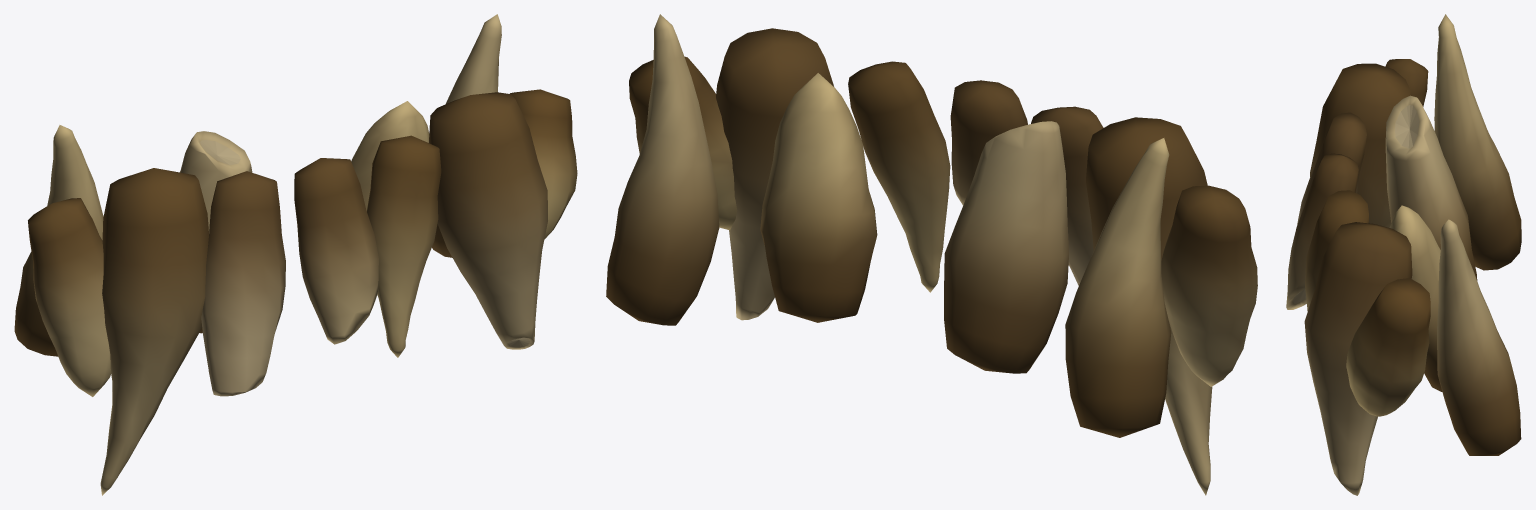
Rendered from goblin-teeth.glb.
The picture shows the model from 3 angles, left to right: view 1: azimuth 30°, elevation 25°; view 2: azimuth 150°, elevation 25°; view 3: azimuth 270°, elevation 25°; orthographic projection. The views are drawn at different scales.
Parts seen in each view (by area): view 1: tooth_u1, tooth_u5, tooth_u2, tooth_u3, tooth_u0, tooth_u4, tooth_l0, tooth_u6, tooth_l1, tooth_l3, tooth_l2; view 2: tooth_l1, tooth_l2, tooth_l0, tooth_l3, tooth_u5, tooth_u0, tooth_u4, tooth_u1, tooth_u3, tooth_u2, tooth_u6; view 3: tooth_u5, tooth_l3, tooth_l0, tooth_u6, tooth_l1, tooth_u1, tooth_u3, tooth_l2, tooth_u4, tooth_u2, tooth_u0.
Part boxes in pixels (bbox=[...]): tooth_u1: bbox=[100, 168, 208, 495]; tooth_u5: bbox=[429, 92, 547, 349]; tooth_u2: bbox=[201, 171, 285, 396]; tooth_u3: bbox=[294, 158, 378, 344]; tooth_u0: bbox=[28, 198, 111, 396]; tooth_u4: bbox=[367, 135, 441, 357]; tooth_l0: bbox=[14, 125, 103, 356]; tooth_u6: bbox=[510, 89, 577, 239]; tooth_l1: bbox=[180, 131, 252, 333]; tooth_l3: bbox=[432, 14, 501, 257]; tooth_l2: bbox=[351, 101, 429, 210]; tooth_l1: bbox=[944, 121, 1068, 373]; tooth_l2: bbox=[760, 73, 877, 322]; tooth_l0: bbox=[1065, 138, 1171, 437]; tooth_l3: bbox=[606, 14, 719, 325]; tooth_u5: bbox=[716, 28, 833, 320]; tooth_u0: bbox=[1161, 185, 1257, 386]; tooth_u4: bbox=[848, 61, 950, 292]; tooth_u1: bbox=[1086, 117, 1212, 495]; tooth_u3: bbox=[950, 80, 1027, 205]; tooth_u2: bbox=[1031, 106, 1103, 285]; tooth_u6: bbox=[629, 56, 737, 230]; tooth_u5: bbox=[1304, 222, 1412, 495]; tooth_l3: bbox=[1437, 219, 1521, 455]; tooth_l0: bbox=[1434, 14, 1521, 270]; tooth_u6: bbox=[1346, 278, 1430, 416]; tooth_l1: bbox=[1385, 95, 1477, 280]; tooth_u1: bbox=[1310, 63, 1410, 227]; tooth_u3: bbox=[1286, 153, 1358, 309]; tooth_l2: bbox=[1389, 205, 1442, 391]; tooth_u4: bbox=[1305, 190, 1368, 311]; tooth_u2: bbox=[1297, 112, 1366, 224]; tooth_u0: bbox=[1385, 59, 1428, 106].
Bounding box in the file's own units: 0.07 × 0.0429 × 0.0274.
